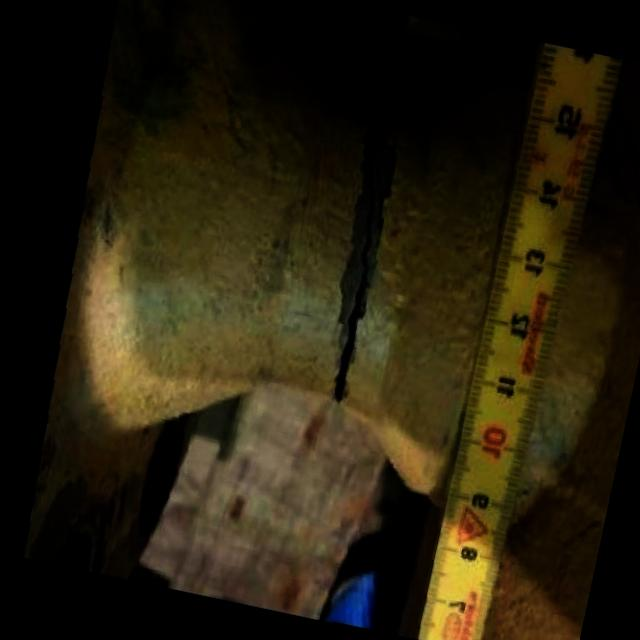crack: (326, 177, 391, 405)
